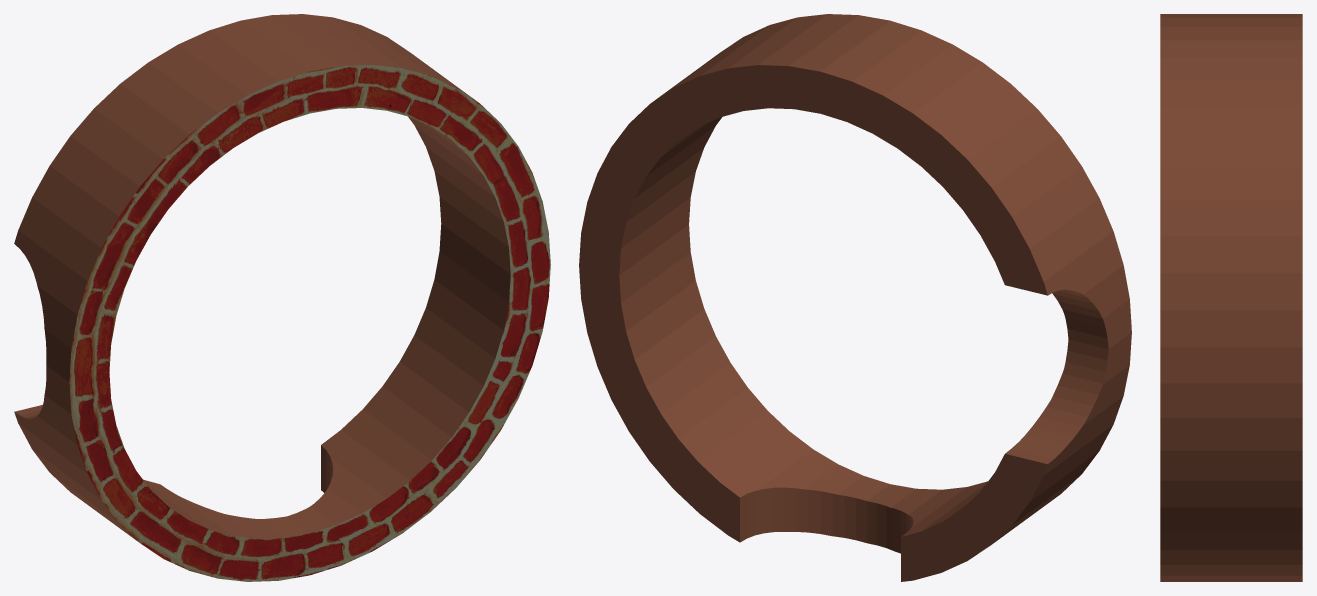
The model's file is pool_073.obj.
The picture shows the model from 3 angles, left to right: view 1: azimuth 30°, elevation 25°; view 2: azimuth 150°, elevation 25°; view 3: azimuth 270°, elevation 25°; orthographic projection. The views are drawn at different scales.
Size of the model in its own units: 12 by 12 by 3.
